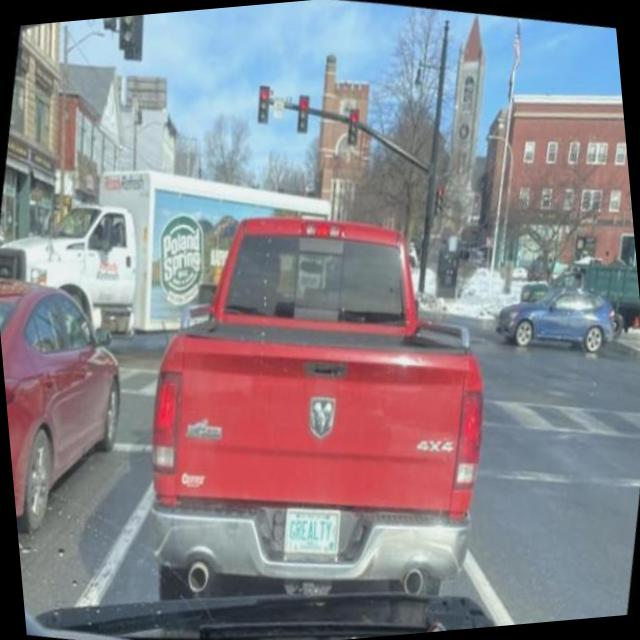LicensePlate: (280, 505, 339, 554)
